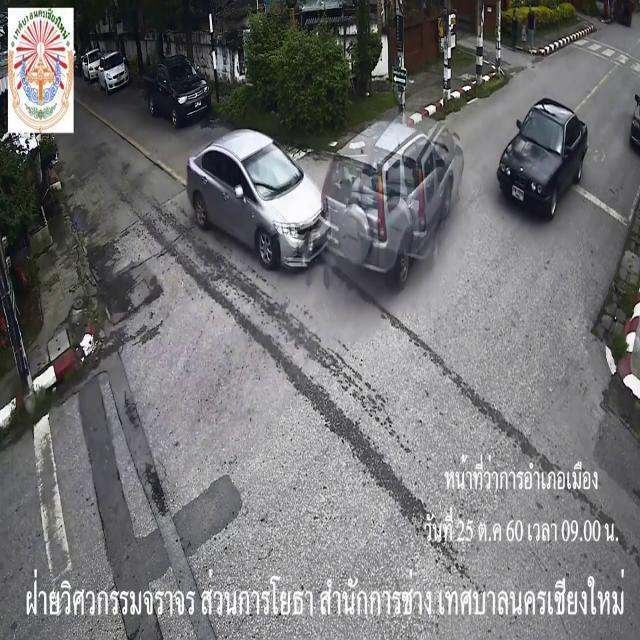car Accident: (177, 81, 472, 286)
